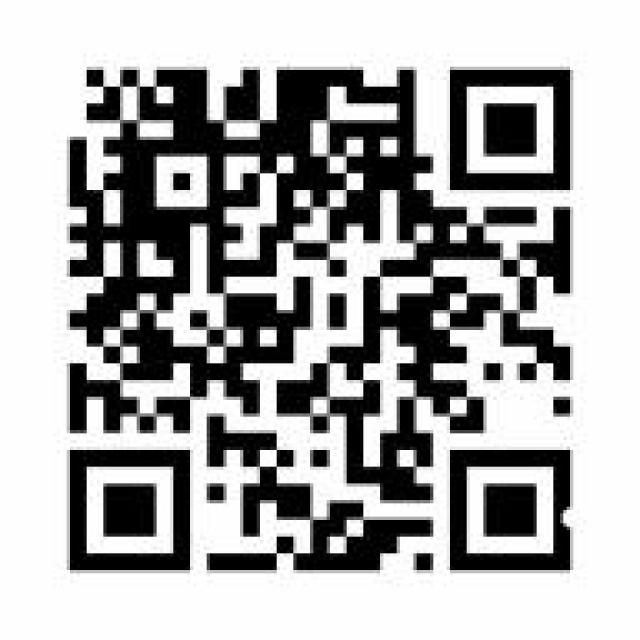QR_CODE: (49, 50, 594, 583)
